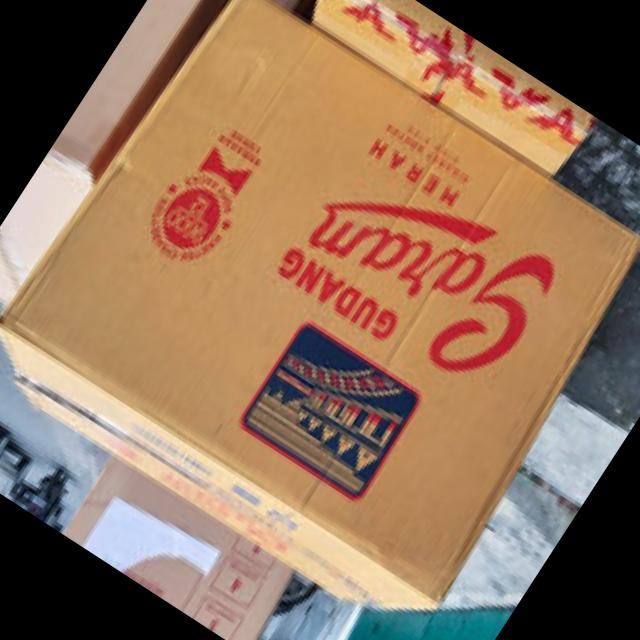Kardus: (0, 0, 640, 640), (289, 0, 599, 190), (0, 380, 43, 502)
